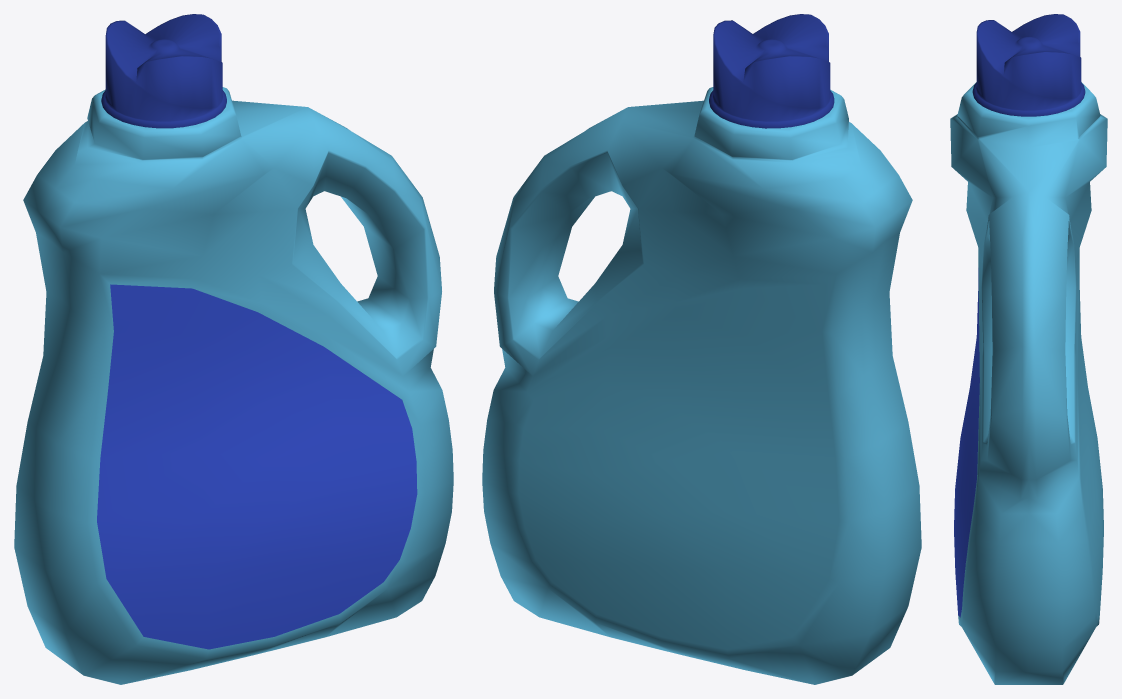
Rendered from dishwashing_detergent_2.glb.
3 views of the same model, side by side, from view 1: azimuth 30°, elevation 25°; view 2: azimuth 150°, elevation 25°; view 3: azimuth 270°, elevation 25° (orthographic). The views are drawn at different scales.
Parts seen in each view (by area): view 1: Plane.038, Circle.007; view 2: Plane.038, Circle.007; view 3: Plane.038, Circle.007.
Boxes of the visible parts, x1,y1,x2,y2 form: Plane.038: (14, 87, 453, 684); Circle.007: (101, 14, 226, 128); Plane.038: (482, 87, 921, 684); Circle.007: (709, 14, 834, 128); Plane.038: (950, 82, 1107, 684); Circle.007: (972, 14, 1085, 116).
Bounding box in the file's own units: 0.3265 × 0.4782 × 0.1225.
